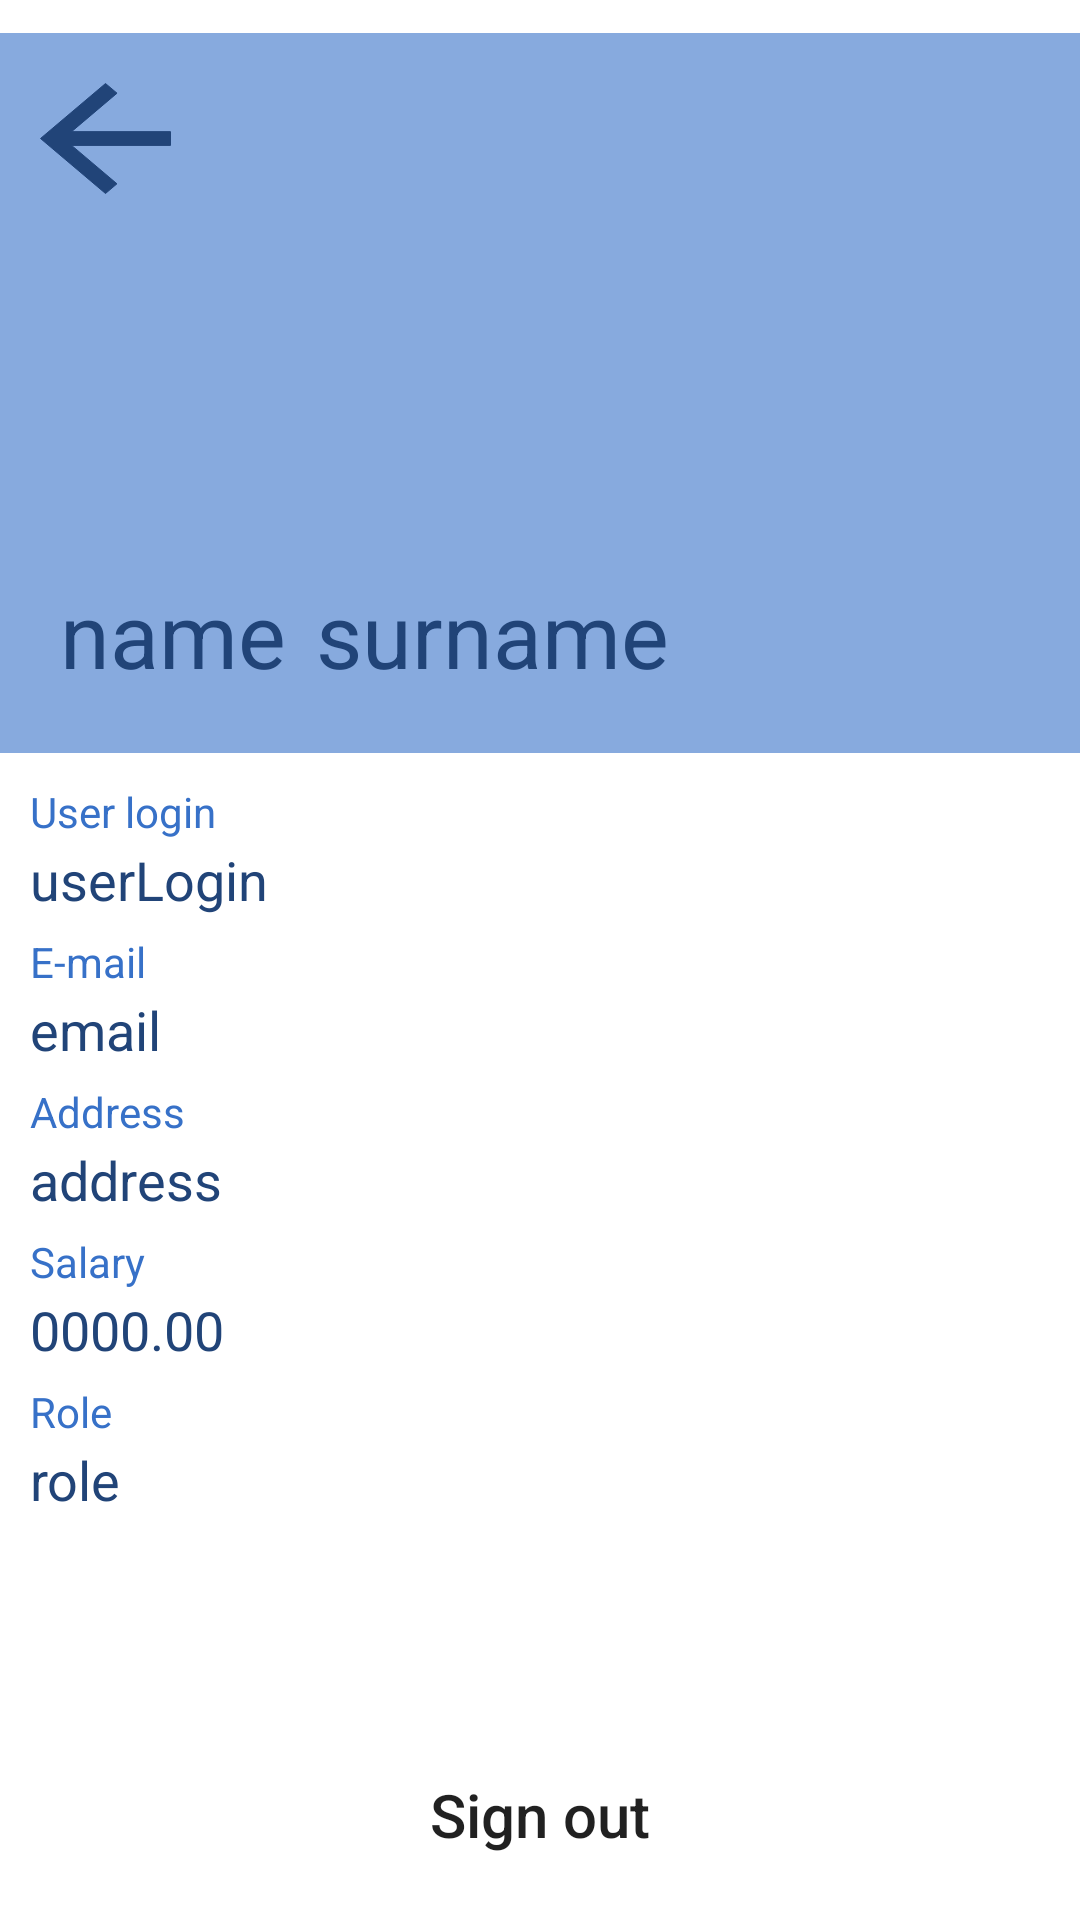

Icons on this 1080w x 1920h Android screen, each with the point to tap as (x,y):
arrow back: (105,138)
